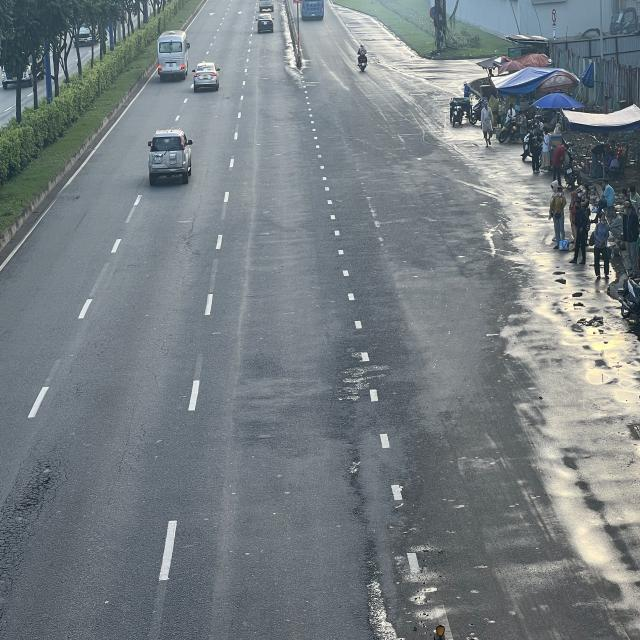car: (148, 130, 194, 182), (193, 62, 220, 91)
coach: (158, 29, 190, 80)
